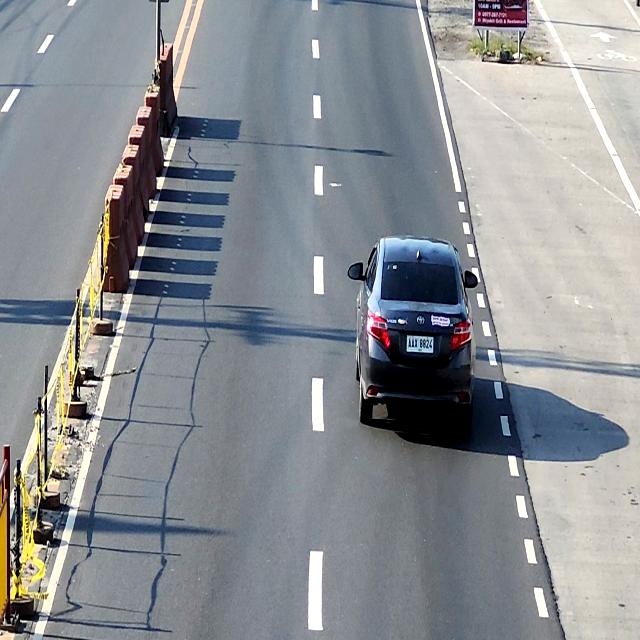Car: (349, 236, 478, 439)
License-Plate: (406, 336, 435, 354)
